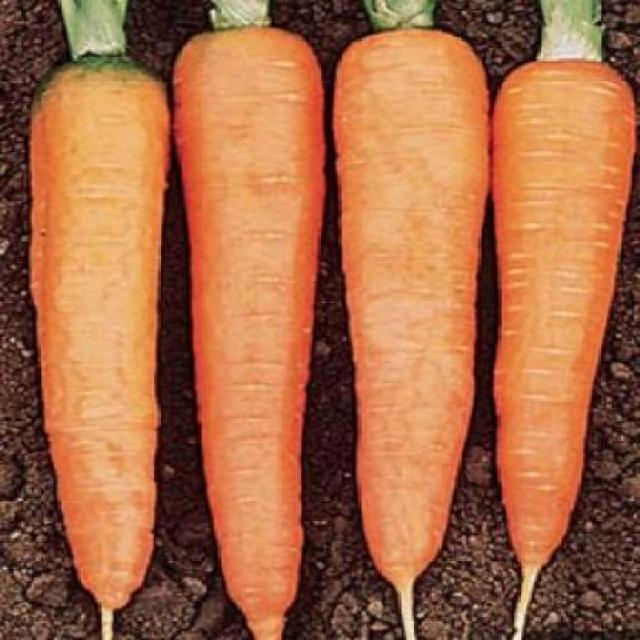carrot: (170, 29, 333, 636), (328, 28, 494, 610), (14, 52, 180, 622), (492, 50, 636, 607)
